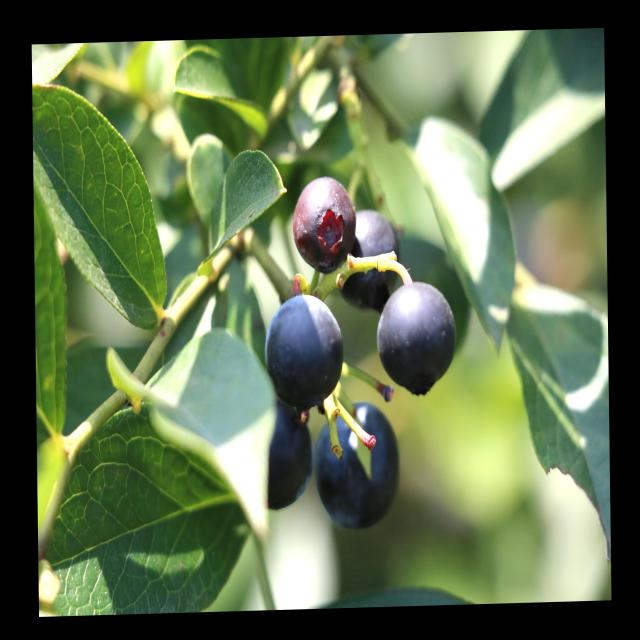blueberry: (309, 392, 408, 536), (260, 286, 352, 415), (373, 277, 462, 403), (286, 166, 362, 280), (331, 200, 405, 315), (256, 390, 319, 519)
